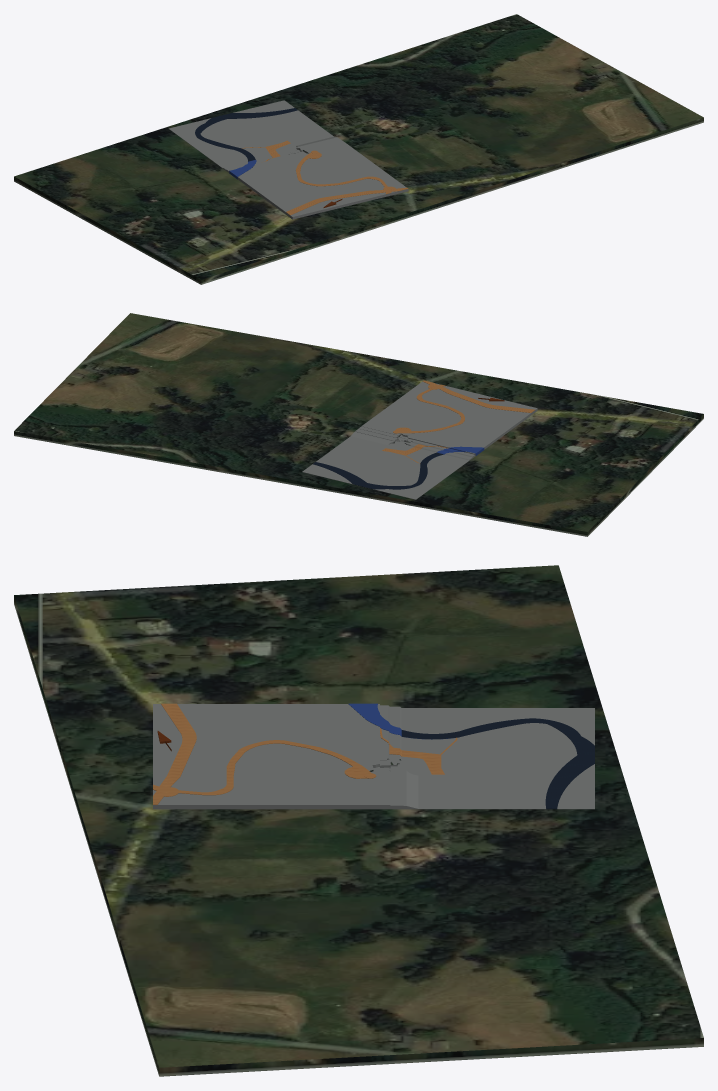
The model's file is lote.glb.
The picture shows the model from 3 angles, top to bottom: view 1: azimuth 30°, elevation 25°; view 2: azimuth 150°, elevation 25°; view 3: azimuth 270°, elevation 25°; orthographic projection. The views are drawn at different scales.
Visible parts, largest first — view 1: 13669638, 195089, 235406, 235408; view 2: 13669638, 195089, 235406, 235408; view 3: 13669638, 195089, 235406, 235408.
Boxes of the visible parts, left/top/right/bottom form: 13669638: left=14, top=14, right=703, bottom=284; 195089: left=168, top=100, right=408, bottom=219; 235406: left=195, top=108, right=297, bottom=179; 235408: left=286, top=150, right=408, bottom=215; 13669638: left=14, top=313, right=703, bottom=536; 195089: left=302, top=381, right=537, bottom=499; 235406: left=313, top=444, right=484, bottom=489; 235408: left=393, top=380, right=535, bottom=433; 13669638: left=14, top=565, right=703, bottom=1076; 195089: left=153, top=704, right=594, bottom=809; 235406: left=348, top=703, right=594, bottom=809; 235408: left=153, top=703, right=376, bottom=804.
Size of the model in its own units: 700 by 9.98 by 406.
10 materials, 7 textured.
